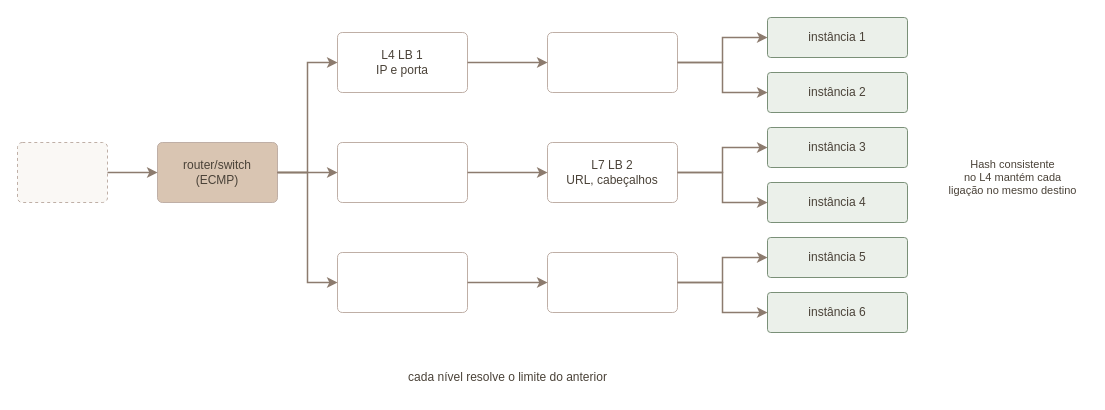
Some shapes in this 1105 by 410 pixel diagram are drawn without their labels. Each missing label, with the centre of its shape:
clientes: [62,172]
L4 LB 2 IP e porta: [402,172]
L4 LB 3 IP e porta: [402,282]
L7 LB 1 URL, cabeçalhos: [612,62]
L7 LB 3 URL, cabeçalhos: [612,282]
